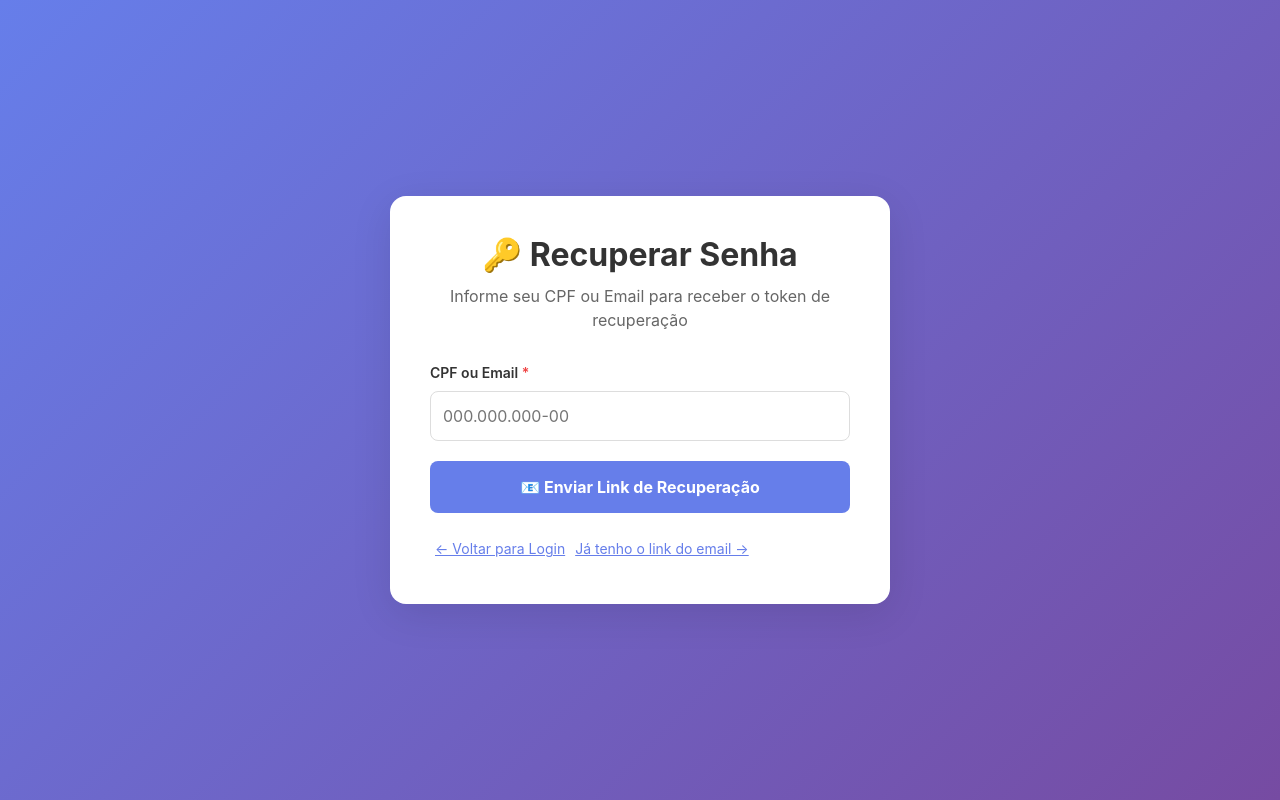
Test case: ForgotPassword (público) › mostra erro quando CPF é inválido
Type "123.456.78" into the field with placeholder "000.000.000-00".
click(640, 416); type("123.456.78")  # box [430, 391, 850, 441]
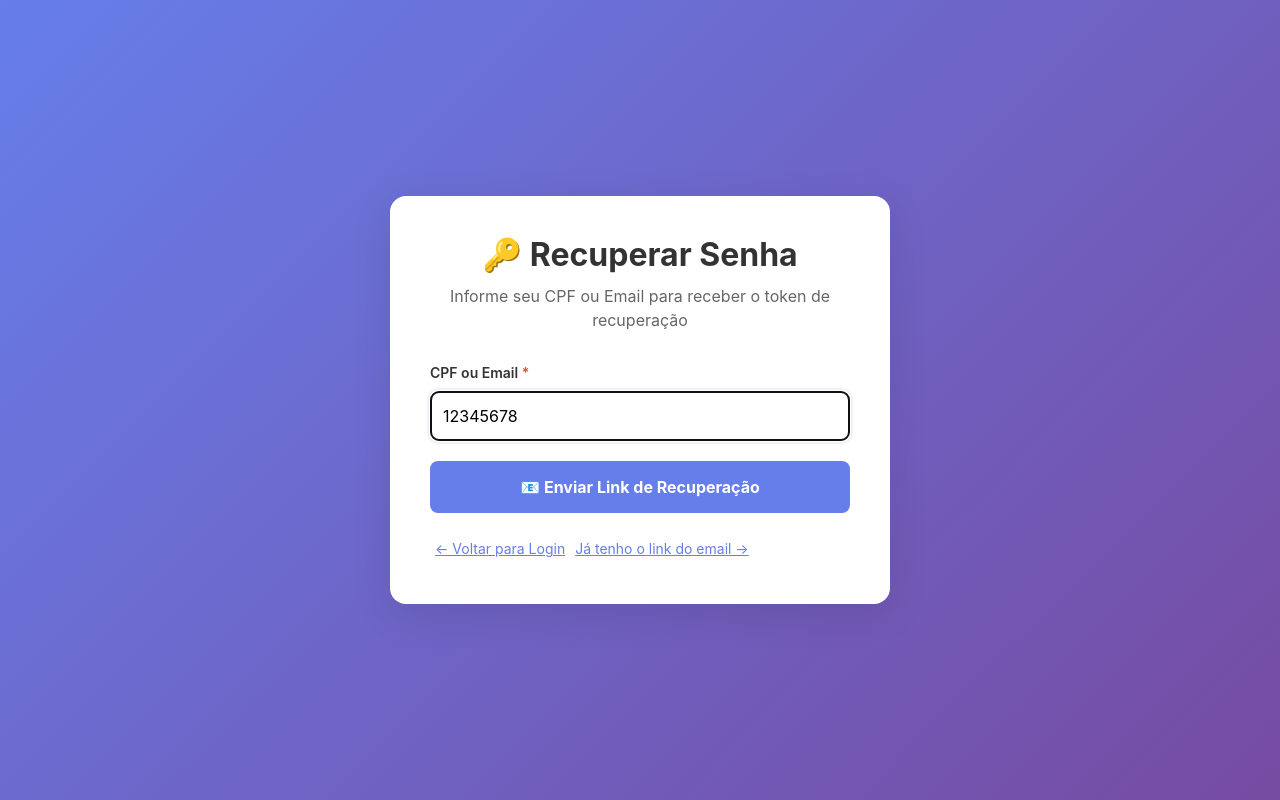
Click the button "📧 Enviar Link de Recuperação".
click(640, 487)  # box [430, 461, 850, 513]
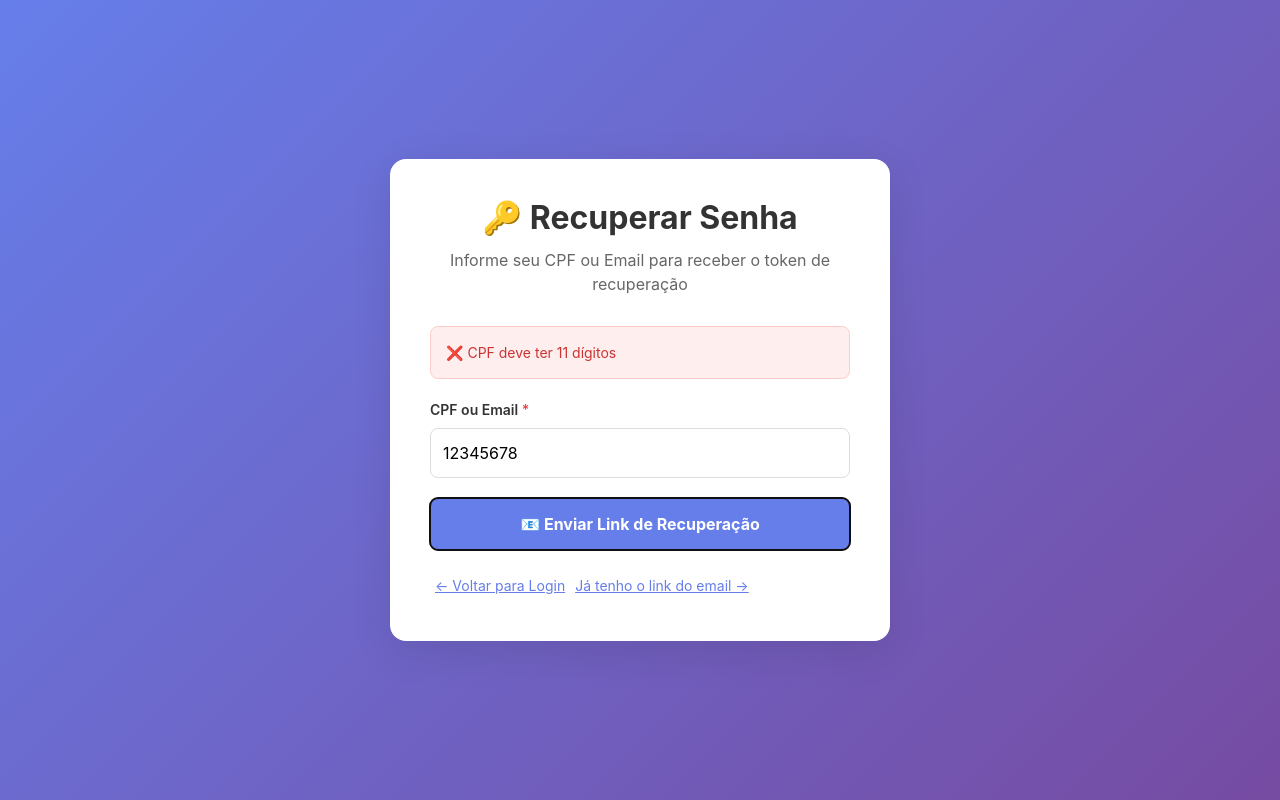
Result: the text "❌ CPF deve ter 11 dígitos" is shown at [430, 326, 850, 379]
